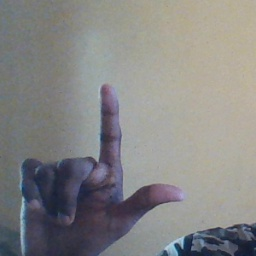L: (17, 84, 194, 256)
